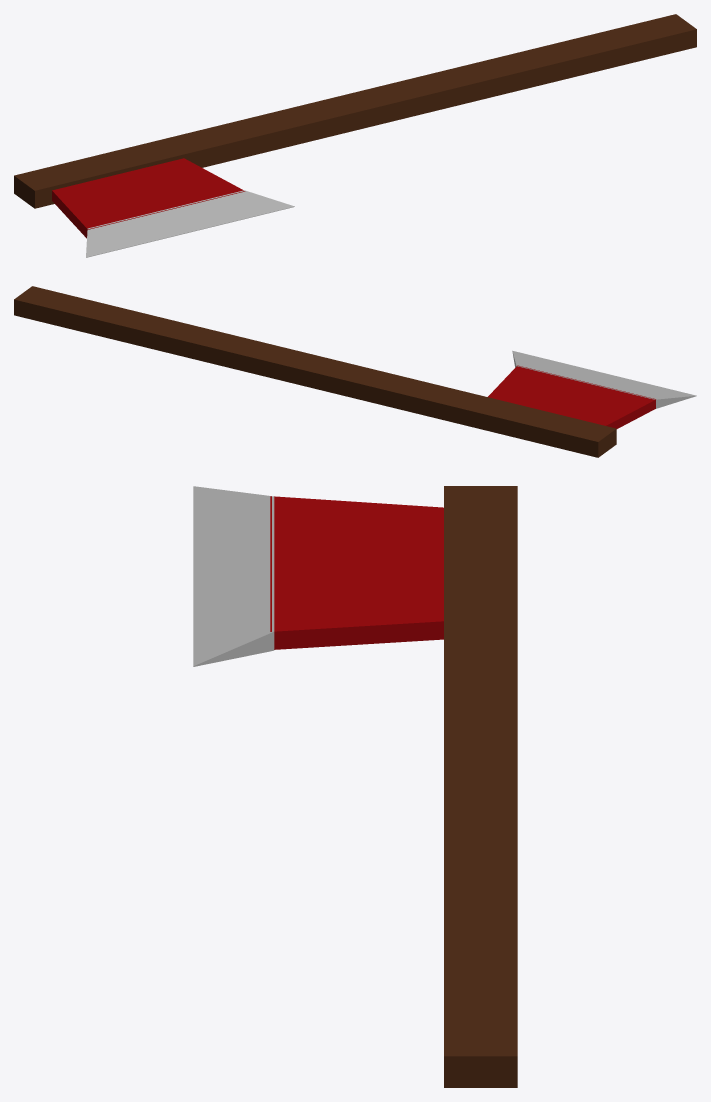
File: Axe.fbx
3 renders of one model, top to bottom at view 1: azimuth 30°, elevation 25°; view 2: azimuth 150°, elevation 25°; view 3: azimuth 270°, elevation 25°, orthographic. The views are drawn at different scales.
Parts seen in each view (by area): view 1: Cube.002, Cube.001, Cube; view 2: Cube.002, Cube.001, Cube; view 3: Cube.002, Cube.001, Cube.
Part boxes in pixels (left/top/right/bottom): Cube.002: left=14, top=14, right=696, bottom=208; Cube.001: left=52, top=158, right=245, bottom=238; Cube: left=86, top=190, right=294, bottom=257; Cube.002: left=14, top=286, right=616, bottom=457; Cube.001: left=488, top=365, right=655, bottom=428; Cube: left=512, top=350, right=696, bottom=408; Cube.002: left=444, top=486, right=517, bottom=1087; Cube.001: left=270, top=496, right=443, bottom=649; Cube: left=193, top=486, right=274, bottom=666.
Bounding box in the file's own units: 1453 × 36.57 × 339.
